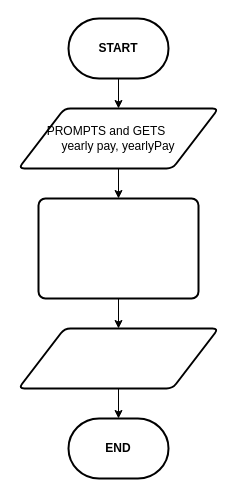
Image size: 236x496. Some labels were removed from this diagram. The box of each missing label's shape, as (x1, y1, x2, y2) in pixels:
CALCULATE weekly pay by diving yearlyPay by 52, weeklyPay: (37, 197, 199, 299)
DISPLAYS weeklyPay: (17, 327, 219, 389)
